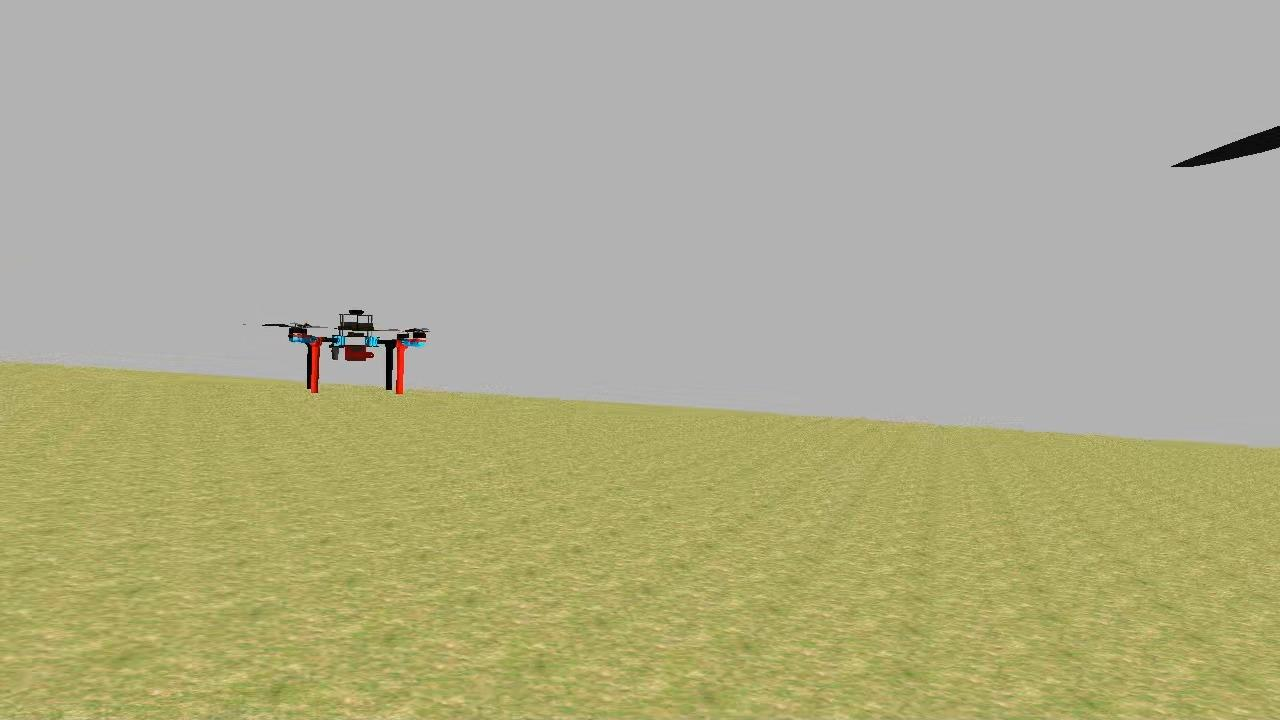UAV: (280, 302, 434, 398)
